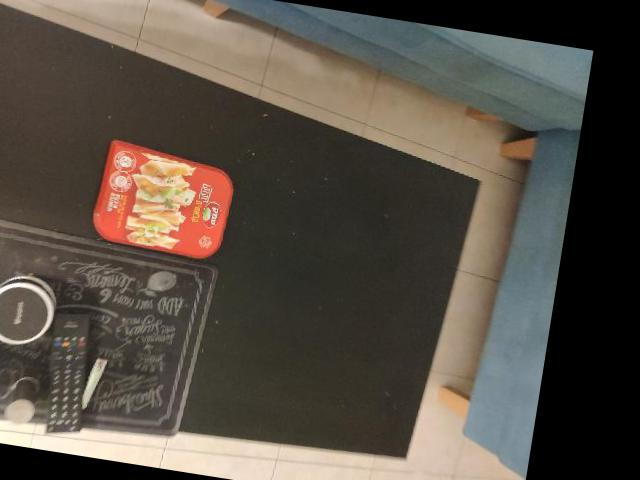cheese: (89, 133, 234, 265)
